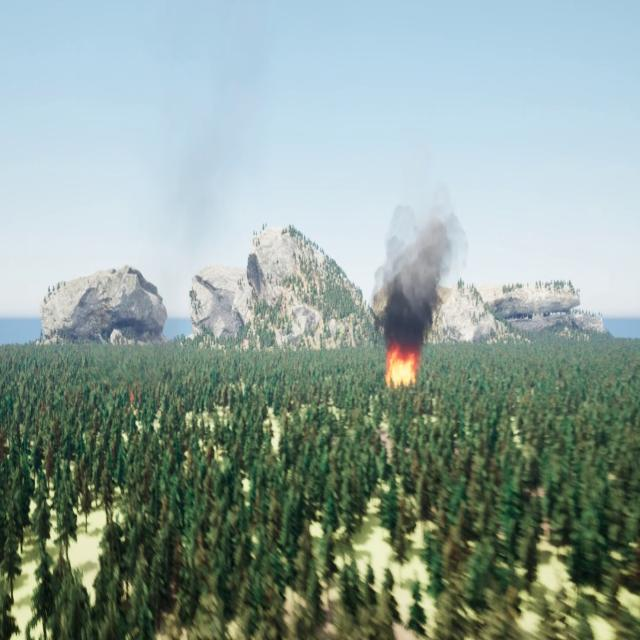fire: (384, 345, 415, 384)
smoke: (374, 184, 466, 346)
